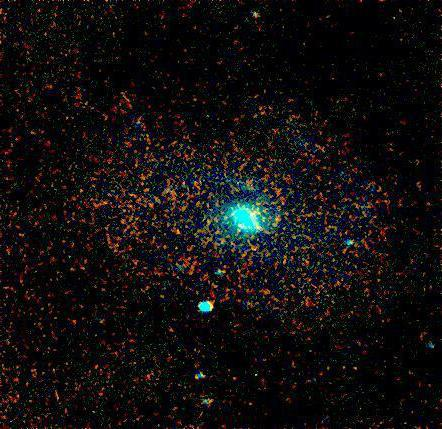star: (237, 199, 267, 229)
